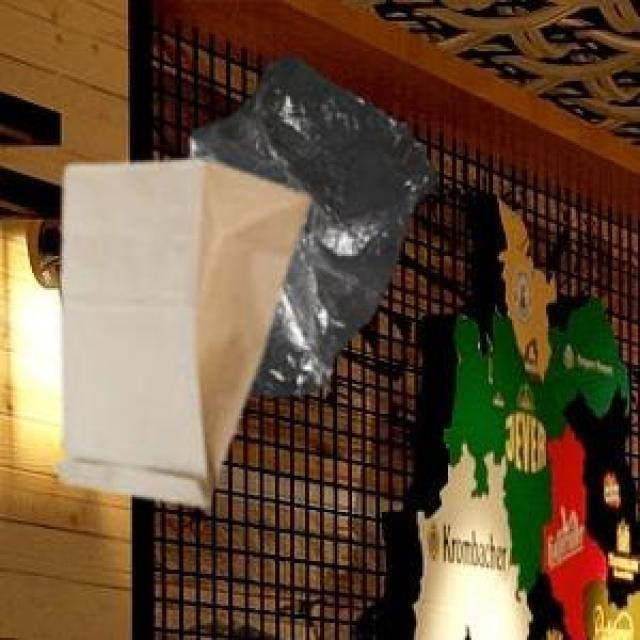paper: (51, 156, 305, 501)
